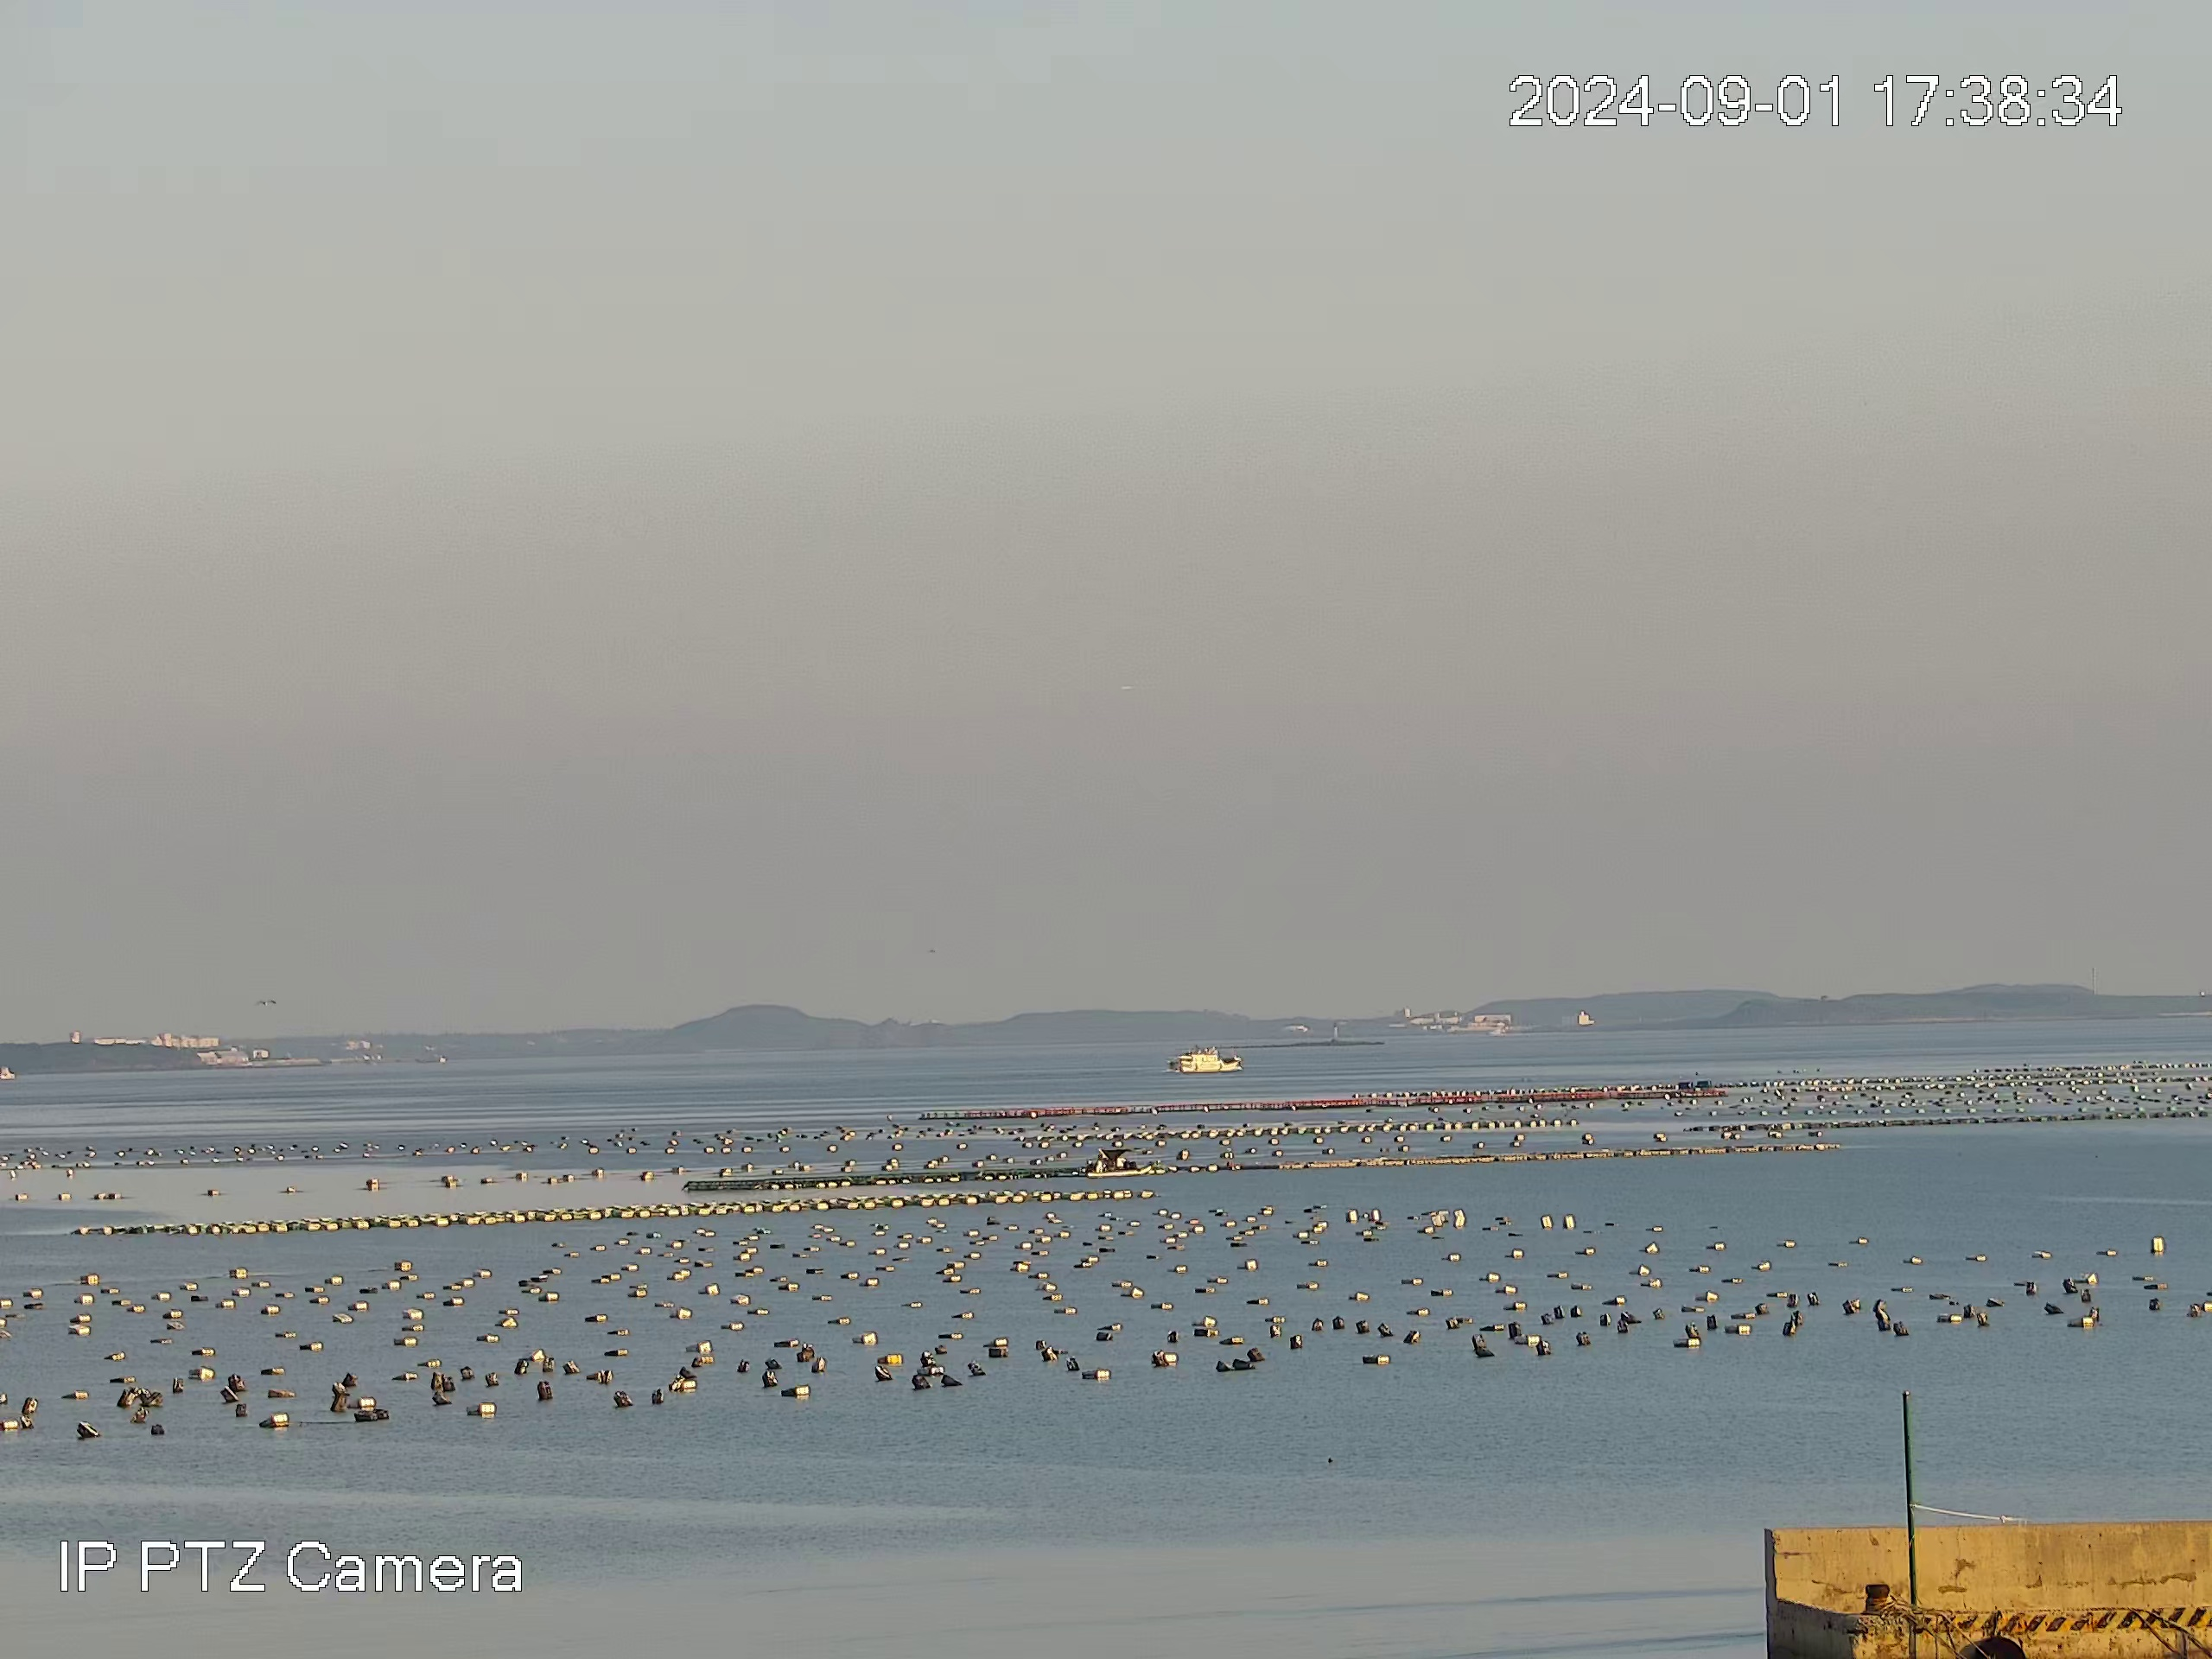boat: (1085, 1145, 1155, 1178), (1169, 1044, 1244, 1073)
